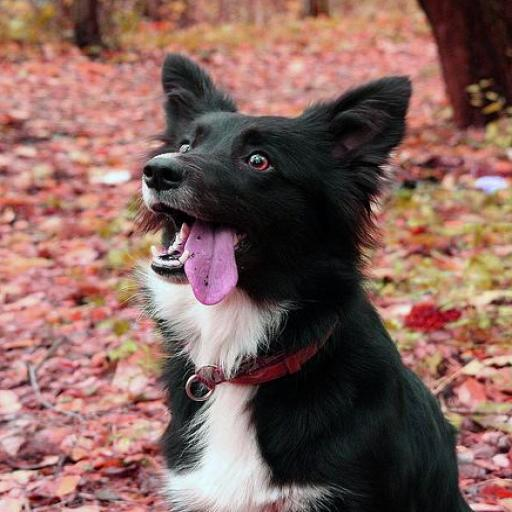dog_face: (130, 48, 411, 318)
